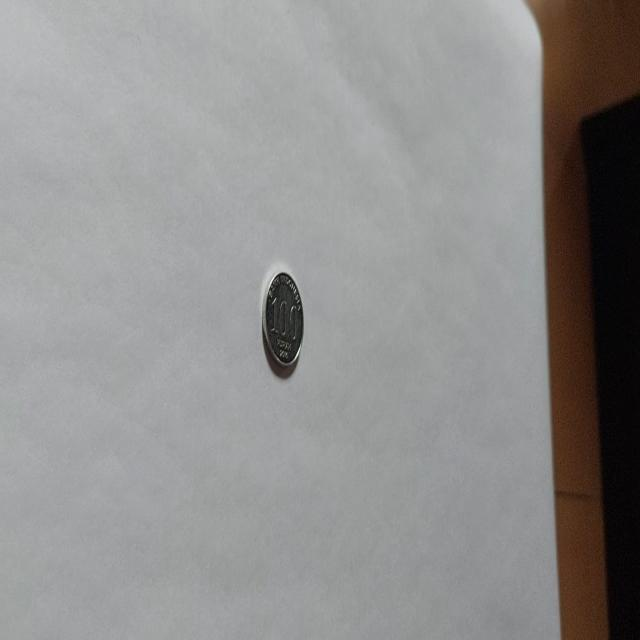seratus rupiah: (261, 269, 304, 370)
